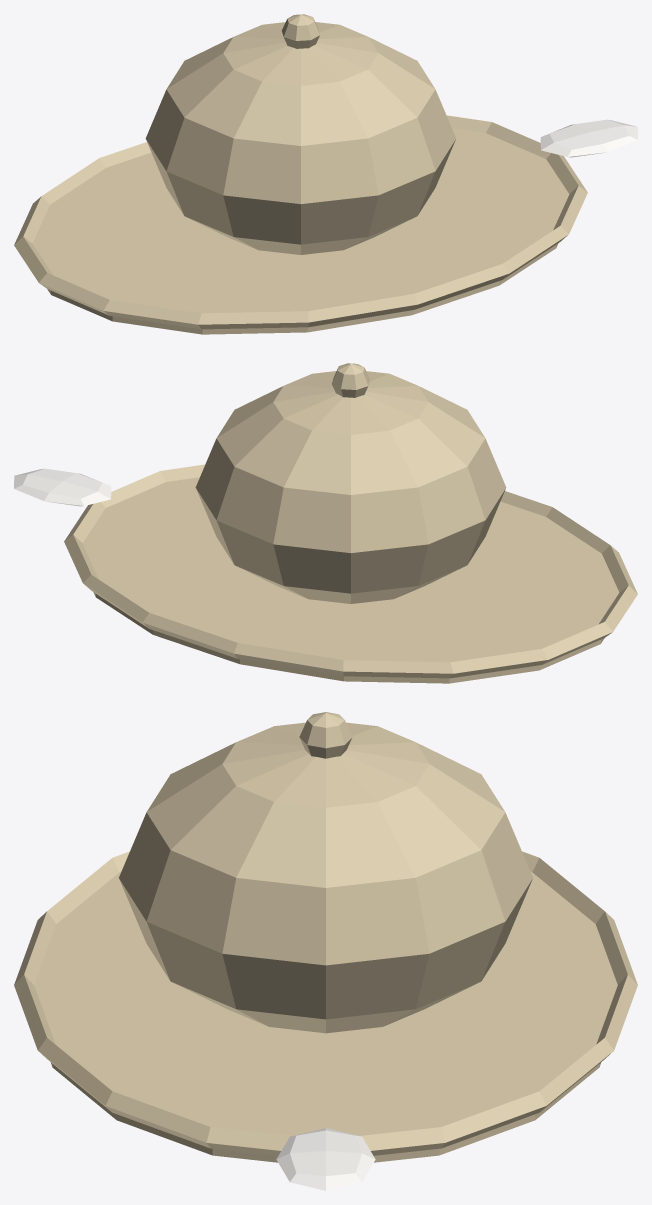
Rendered from room_service_tray.glb.
The picture shows the model from 3 angles, top to bottom: view 1: azimuth 30°, elevation 25°; view 2: azimuth 150°, elevation 25°; view 3: azimuth 270°, elevation 25°; orthographic projection. The views are drawn at different scales.
Visible parts, largest first — view 1: RoomServiceTray; view 2: RoomServiceTray; view 3: RoomServiceTray.
Part boxes in pixels (x1,y1,x2,y2): RoomServiceTray: (14,14,637,334); RoomServiceTray: (14,363,637,683); RoomServiceTray: (14,712,637,1190).
Size of the model in its own units: 0.6232 by 0.221 by 0.4216.
